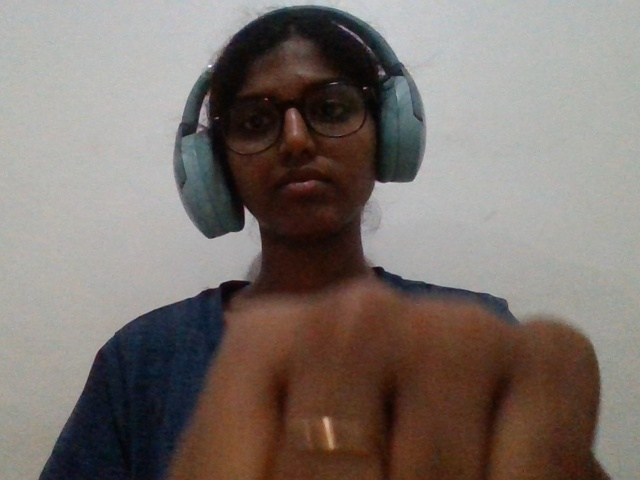Yes: (117, 265, 640, 471)
